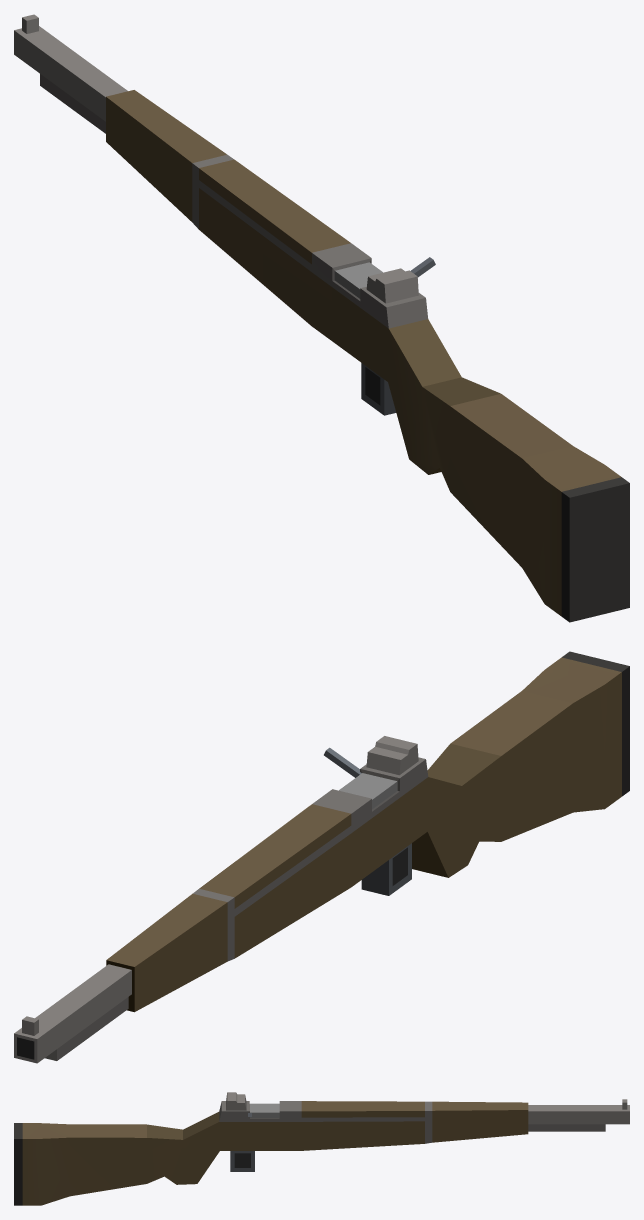
Rendered from Wep_USRifle.fbx.
3 renders of one model, top to bottom at view 1: azimuth 30°, elevation 25°; view 2: azimuth 150°, elevation 25°; view 3: azimuth 270°, elevation 25°, orthographic. The views are drawn at different scales.
Visible parts, largest first — view 1: Wep_USRifle; view 2: Wep_USRifle; view 3: Wep_USRifle.
Boxes of the visible parts, x1,y1,x2,y2 form: Wep_USRifle: (14,14,629,622); Wep_USRifle: (14,651,629,1063); Wep_USRifle: (14,1092,629,1205).
Size of the model in its own units: 46.39 by 99.2 by 546.
